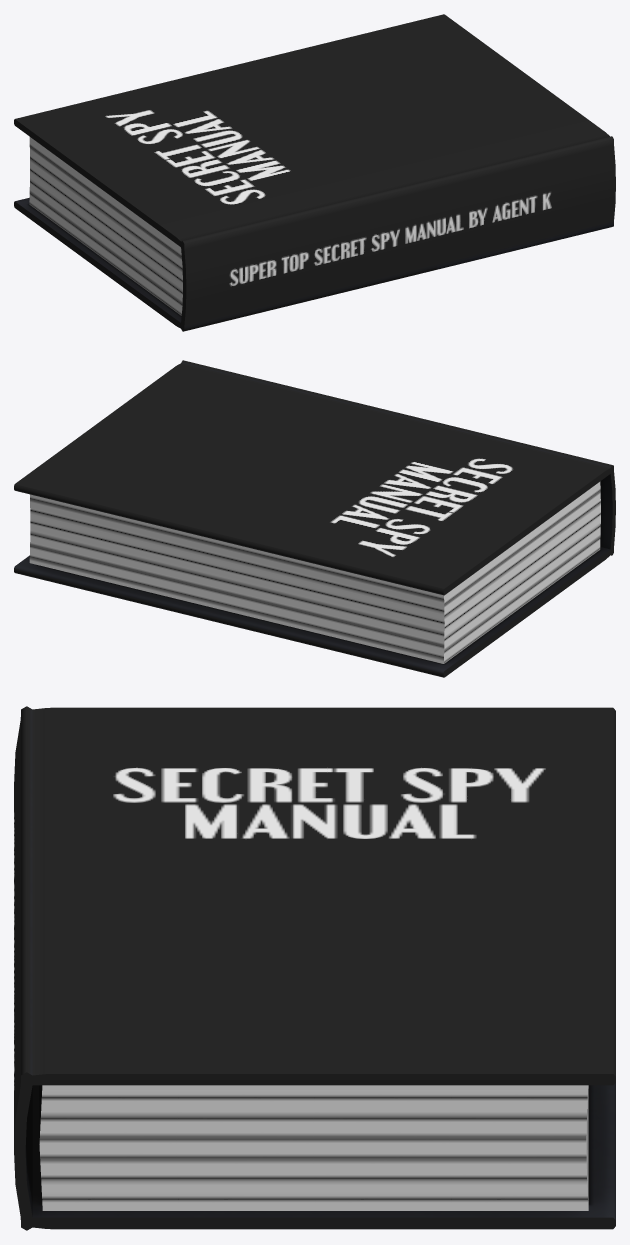
The model's file is book_closed.fbx.
3 renders of one model, top to bottom at view 1: azimuth 30°, elevation 25°; view 2: azimuth 150°, elevation 25°; view 3: azimuth 270°, elevation 25°, orthographic. The views are drawn at different scales.
Visible parts, largest first — view 1: book_a; view 2: book_a; view 3: book_a.
Part boxes in pixels (<box>): book_a: <box>14,14,615,331</box>; book_a: <box>14,360,615,677</box>; book_a: <box>14,706,615,1230</box>.
Bounding box in the file's own units: 2010 × 406 × 1397.
